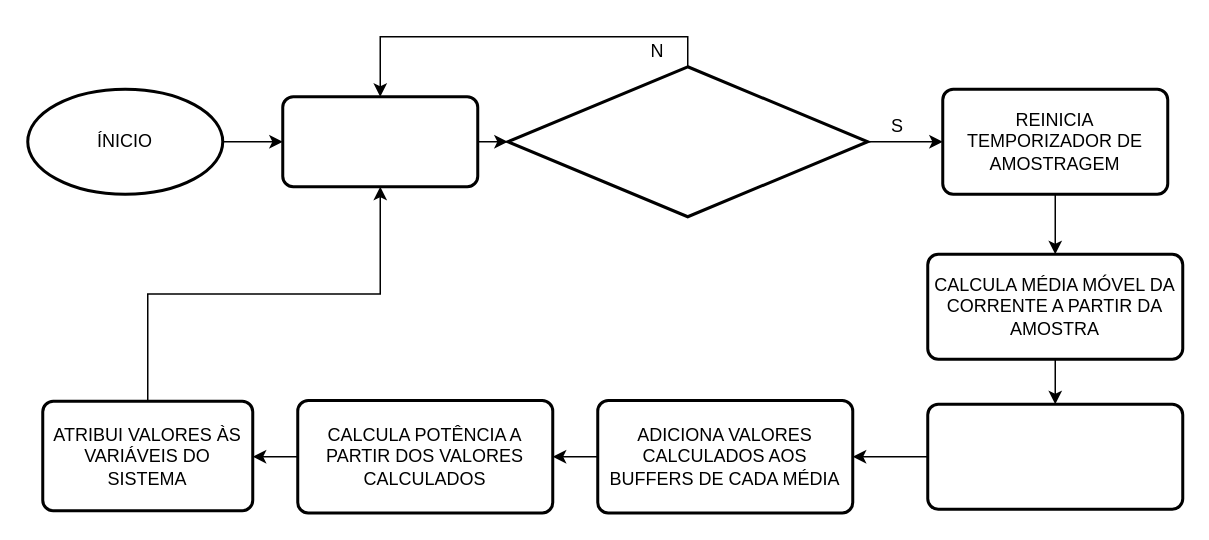
This 1209x540 diagram has some shape labels left out. Each missing label, with the centre of its shape:
"AMOSTRA NECESSÁRIA?" goes at (x=687, y=141).
"CALCULA MÉDIA MÓVEL DA TENSÃO A PARTIR DA AMOSTRA" goes at (x=1055, y=456).
"VERIFICA TEMPORIZADOR DE AMOSTRAGEM" goes at (x=379, y=141).
